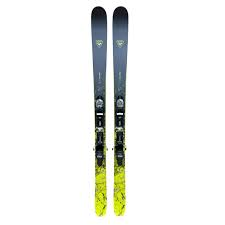skis: (88, 6, 132, 218)
